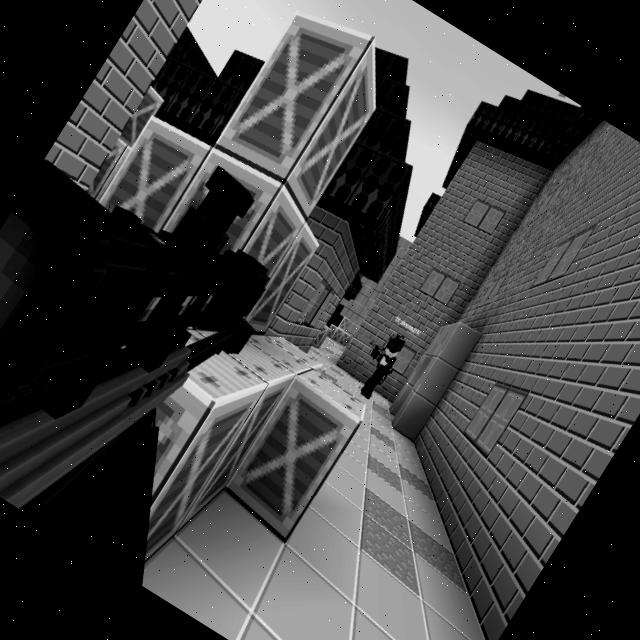Head: (381, 332, 406, 359)
Player: (348, 324, 412, 402)
